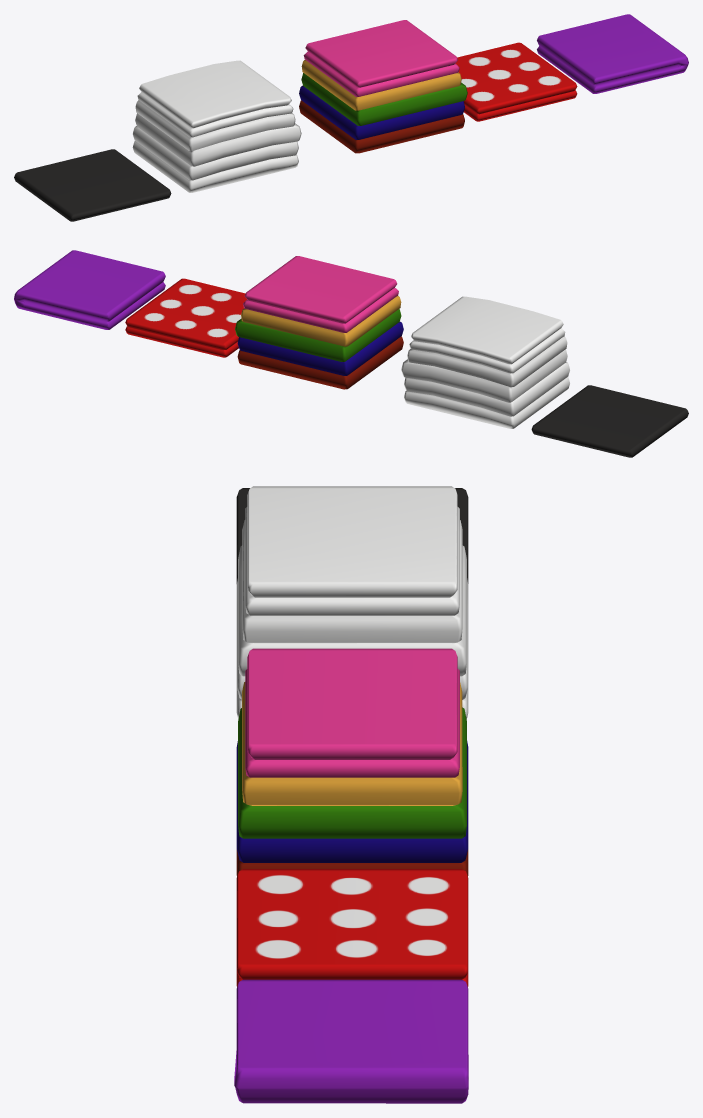
The model's file is FoldedClothes.fbx.
3 views of the same model, one above another, from view 1: azimuth 30°, elevation 25°; view 2: azimuth 150°, elevation 25°; view 3: azimuth 270°, elevation 25° (orthographic). The views are drawn at different scales.
Visible parts, largest first — view 1: FoldedClothes_Stack_Colours, FoldedClothes_Stack_White, FoldedClothes_Purple, FoldedClothes_Black, FoldedClothes_RedPolka; view 2: FoldedClothes_Stack_Colours, FoldedClothes_Stack_White, FoldedClothes_Purple, FoldedClothes_Black, FoldedClothes_RedPolka; view 3: FoldedClothes_Stack_Colours, FoldedClothes_Stack_White, FoldedClothes_Purple, FoldedClothes_RedPolka, FoldedClothes_Black.
Boxes of the visible parts, x1,y1,x2,y2 form: FoldedClothes_Stack_Colours: (299, 20, 467, 153); FoldedClothes_Stack_White: (132, 60, 301, 192); FoldedClothes_Purple: (537, 14, 688, 93); FoldedClothes_Black: (14, 149, 171, 221); FoldedClothes_RedPolka: (455, 42, 577, 121); FoldedClothes_Stack_Colours: (235, 256, 403, 389); FoldedClothes_Stack_White: (401, 296, 569, 428); FoldedClothes_Purple: (14, 250, 165, 329); FoldedClothes_Black: (531, 385, 688, 457); FoldedClothes_RedPolka: (125, 278, 246, 357); FoldedClothes_Stack_Colours: (236, 648, 468, 876); FoldedClothes_Stack_White: (236, 486, 468, 718); FoldedClothes_Purple: (234, 979, 468, 1103); FoldedClothes_RedPolka: (236, 869, 468, 986); FoldedClothes_Black: (236, 488, 468, 583).
Bounding box in the file's own units: 215 × 23.89 × 35.19.
